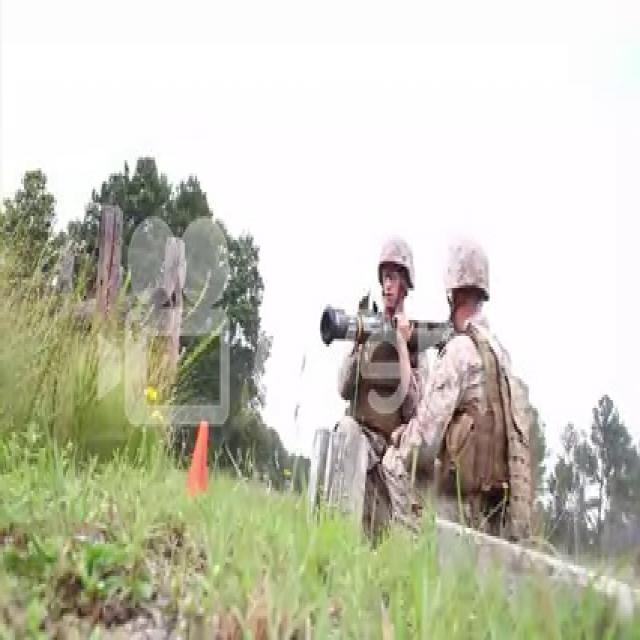rocket: (320, 307, 452, 357)
